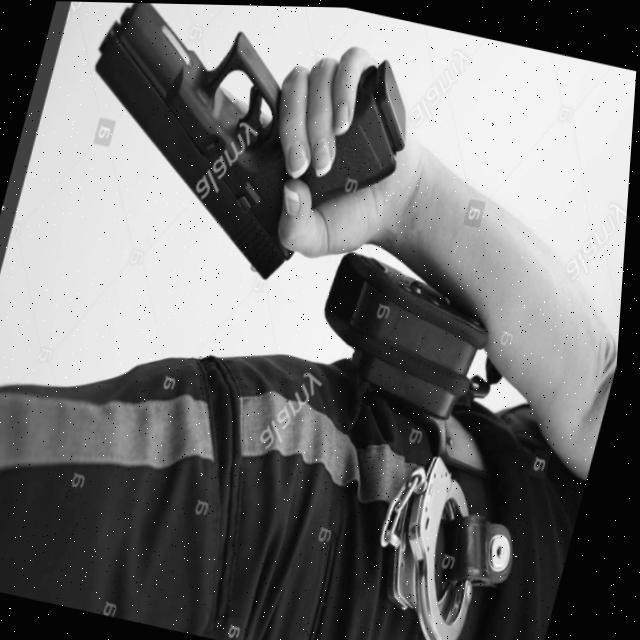pistol: (49, 1, 356, 285)
